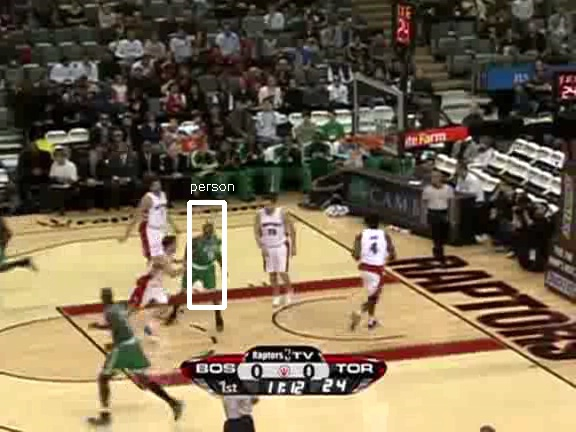person: (188, 221, 222, 302), (187, 221, 221, 302), (189, 221, 223, 302), (188, 220, 222, 301), (188, 222, 222, 303)
target_negative: (300, 46, 536, 236), (262, 220, 481, 328), (120, 308, 237, 411), (85, 414, 502, 417), (274, 116, 300, 130), (217, 208, 566, 209)
